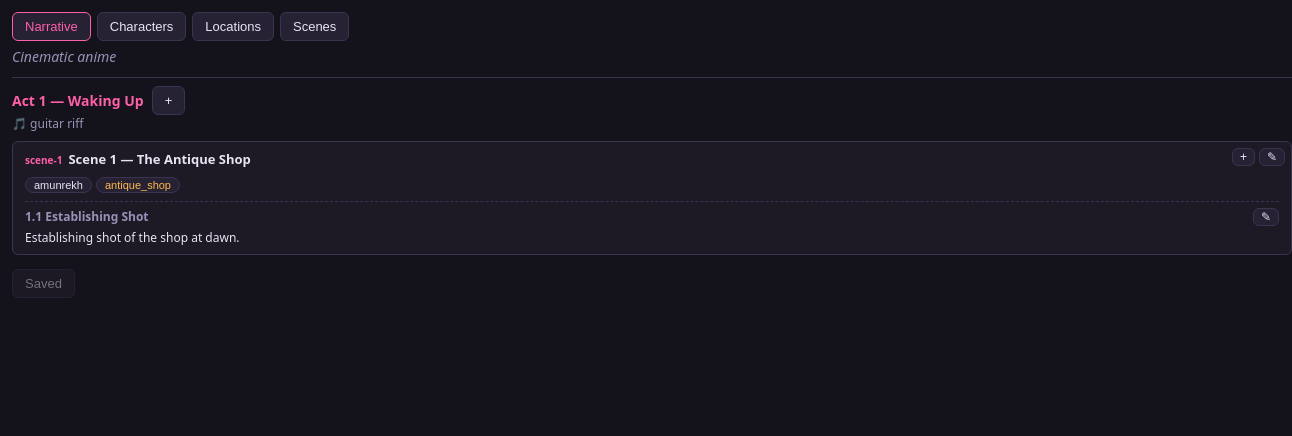
Test case: Storyboard › the pen opens an inline edit and Save PUTs the whole doc
The image size is (1292, 436).
Check: the heading "scene-1Scene 1 — The Antique Shop" is shown, box left=25, top=150, right=251, bottom=168
Click the button named "edit 1.1 Establishing Shot". click: click(1266, 216)
box: left=1253, top=208, right=1279, bottom=226
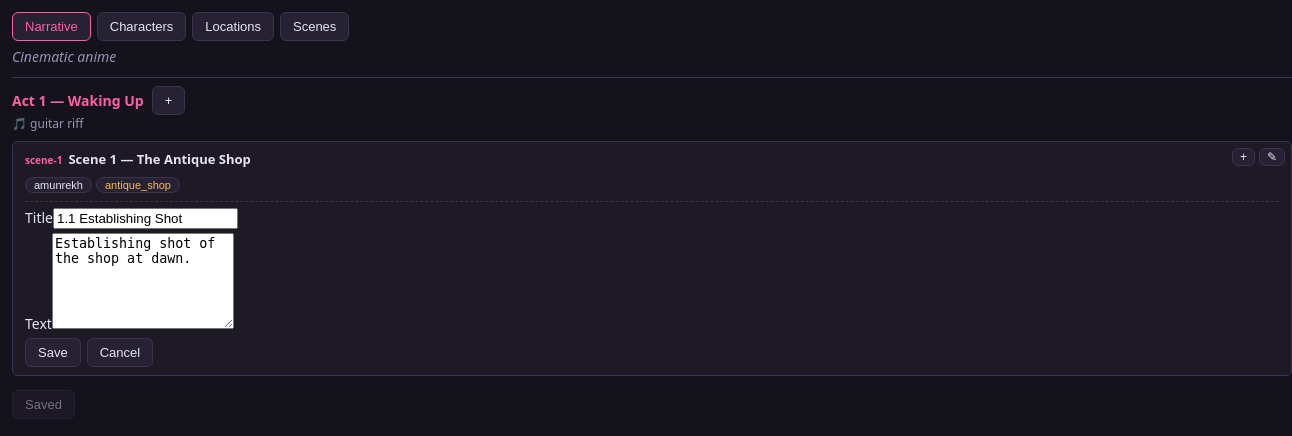
Replace the text in the text box labelled "Text" with "Establishing shot, revised.". click: (143, 280)
box: left=52, top=232, right=234, bottom=328
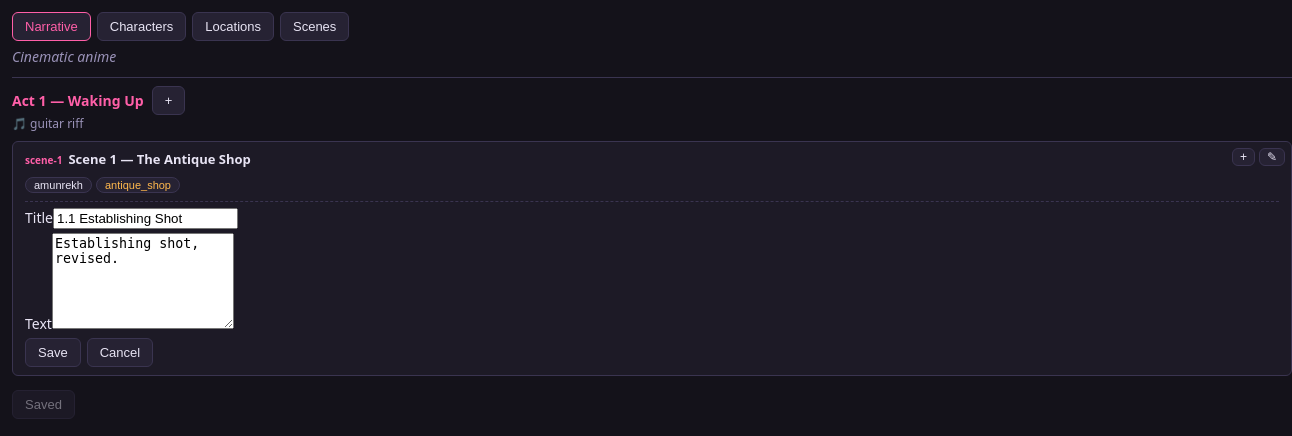
Click the button "Save". click: click(53, 352)
box: left=25, top=338, right=81, bottom=367
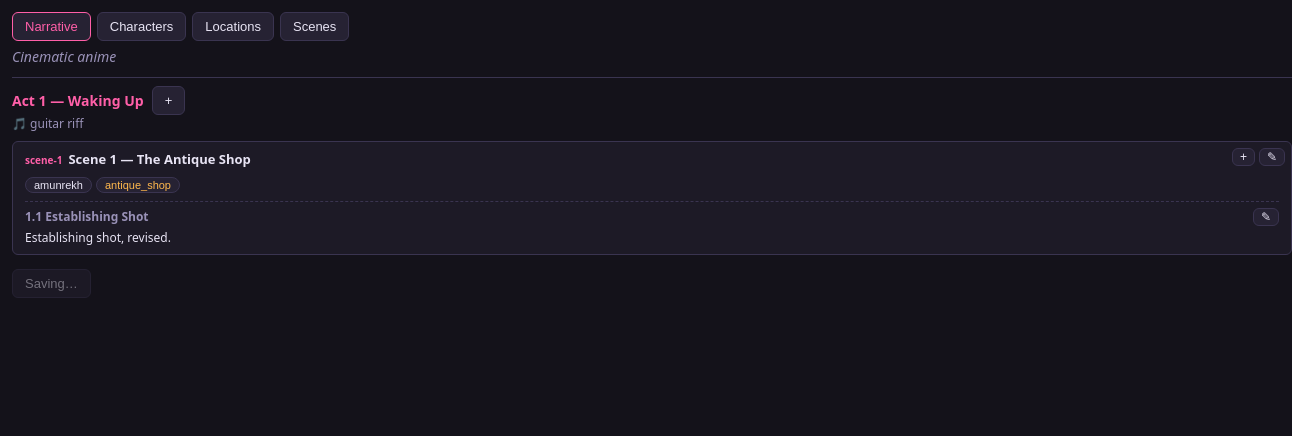
Check: the text "Establishing shot, revised." is shown, box left=25, top=229, right=171, bottom=246
